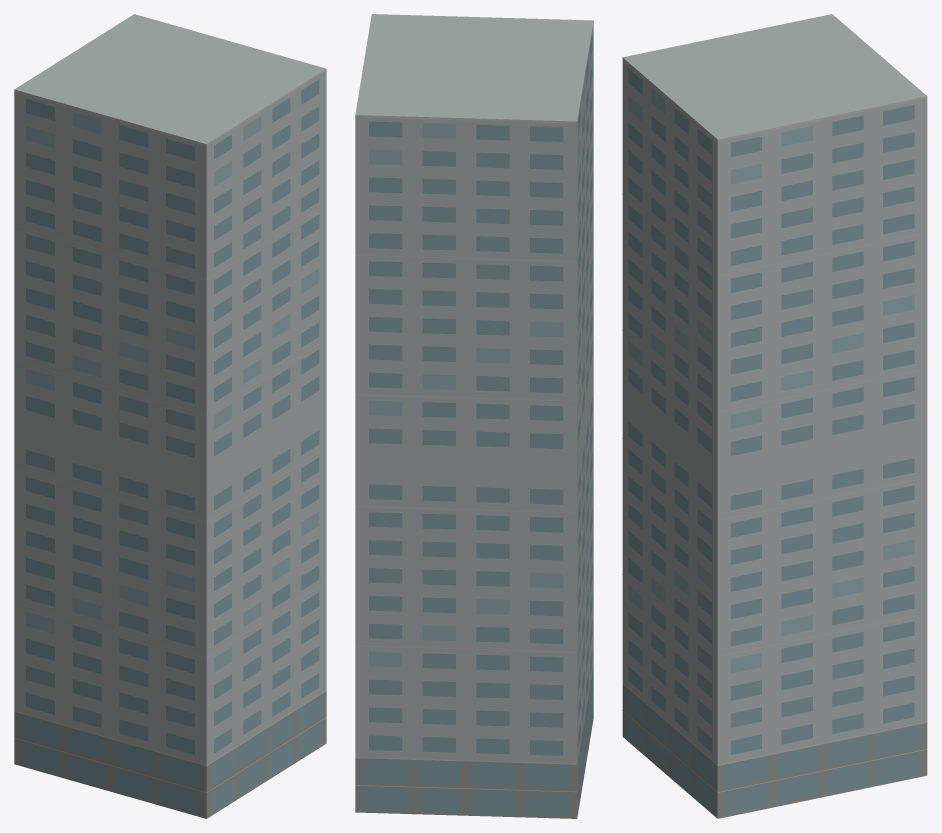
File: residential-4f8dee08-cbce-4551-9094-52592d5b2fd9.glb
3 views of the same model, side by side, from view 1: azimuth 30°, elevation 25°; view 2: azimuth 150°, elevation 25°; view 3: azimuth 270°, elevation 25° (orthographic). The views are drawn at different scales.
Visible parts, largest first — view 1: residential-4f8dee08-cbce-4551-9094-52592d5b2fd9.tmp; view 2: residential-4f8dee08-cbce-4551-9094-52592d5b2fd9.tmp; view 3: residential-4f8dee08-cbce-4551-9094-52592d5b2fd9.tmp.
Boxes of the visible parts, left/top/right/bottom form: residential-4f8dee08-cbce-4551-9094-52592d5b2fd9.tmp: left=14, top=14, right=326, bottom=818; residential-4f8dee08-cbce-4551-9094-52592d5b2fd9.tmp: left=355, top=14, right=593, bottom=818; residential-4f8dee08-cbce-4551-9094-52592d5b2fd9.tmp: left=622, top=14, right=927, bottom=818.
Bounding box in the file's own units: 30.24 × 76.25 × 31.03.
